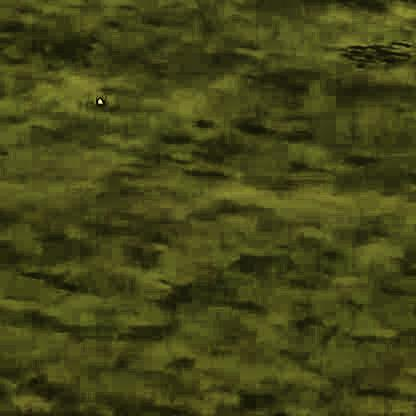golfball: (95, 96, 102, 101)
